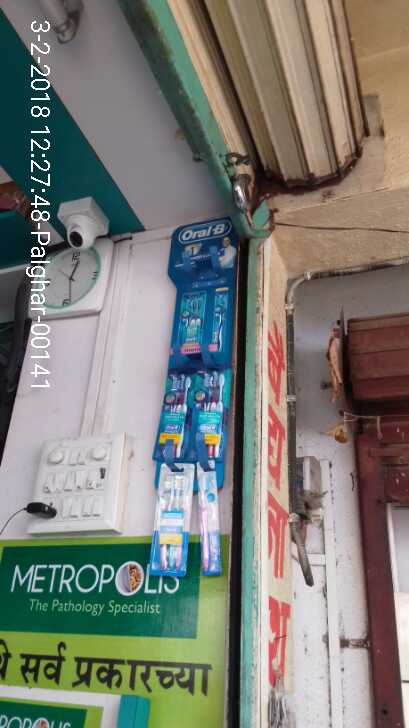oralb: (154, 469, 195, 584), (193, 365, 234, 465), (195, 465, 229, 577), (161, 363, 196, 460)
